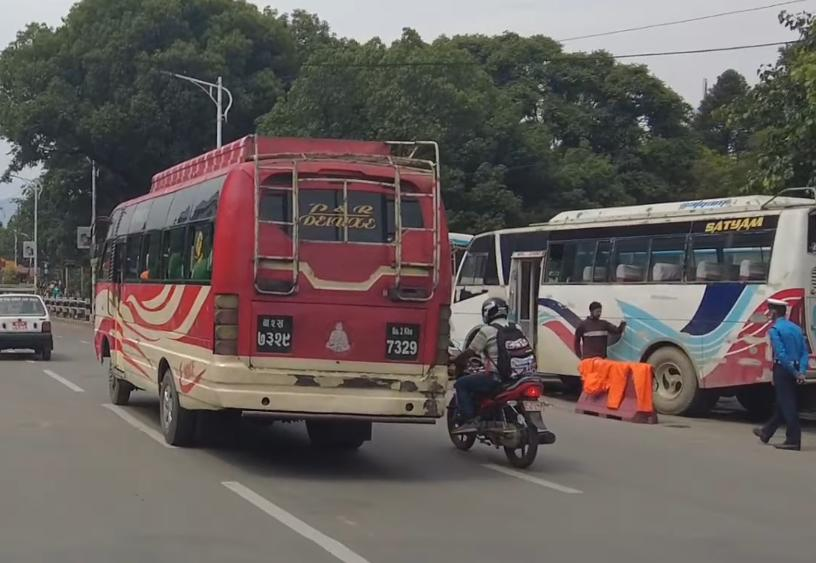bike: (442, 347, 559, 467)
bus: (89, 126, 463, 450), (443, 183, 816, 421)
taxi: (0, 283, 57, 365)
